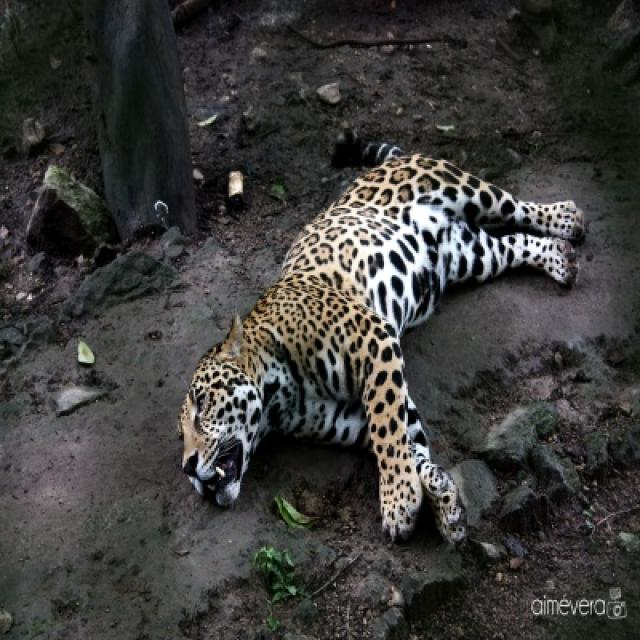Jaguar: (179, 150, 587, 546)
